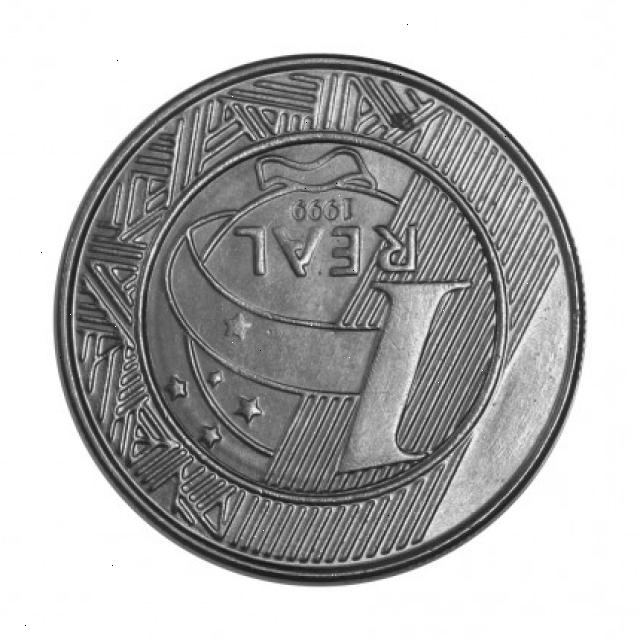1 real: (55, 53, 583, 589)
